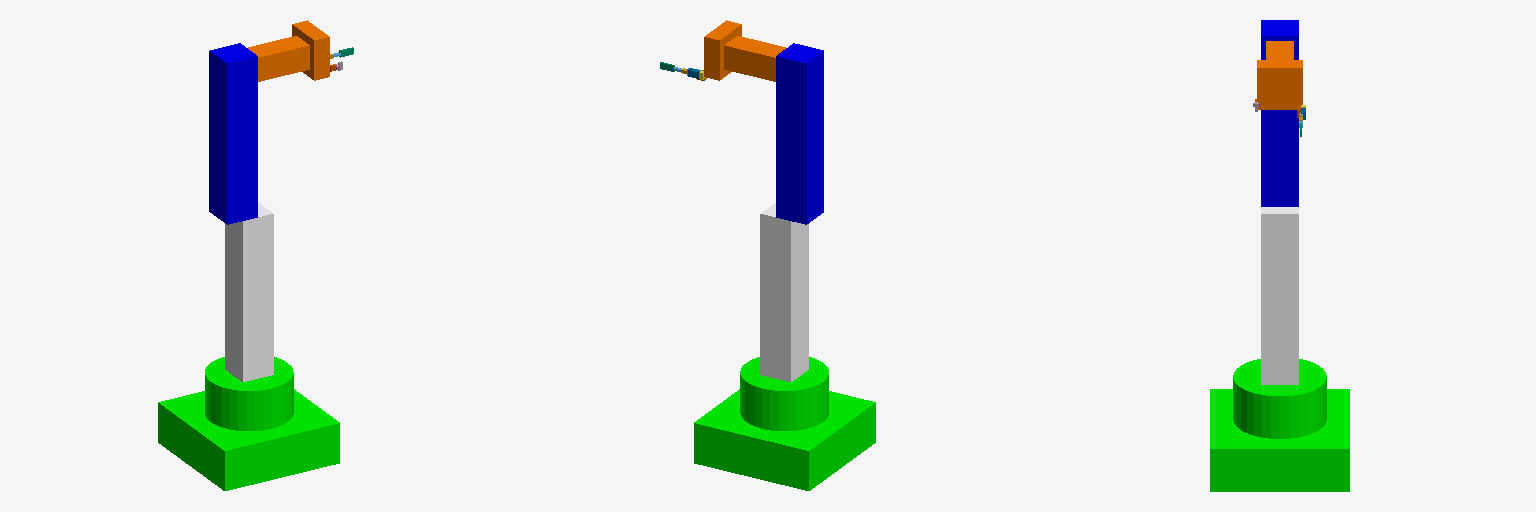
robot.urdf — robot:
<?xml version='1.0' encoding='utf-8'?>
<robot name="robot">
  <link name="base_link">
    <visual>
      <origin xyz="0 0 0.125" rpy="0 0 0" />
      <geometry>
        <box size="0.75 0.75 0.25" />
      </geometry>
      <material name="green" />
    </visual>
    <visual>
      <origin xyz="0 0 0.375" rpy="0 0 0" />
      <geometry>
        <cylinder length="0.25" radius="0.25" />
      </geometry>
      <material name="green">
        <color rgba="0 1 0 1" />
      </material>
    </visual>
    <collision>
      <geometry>
        <box size="0.75 0.75 0.5" />
      </geometry>
    </collision>
    <inertial>
      <mass value="0.5" />
      <inertia ixx="0.034" ixy="0.0" ixz="0.0" iyy="0.034" iyz="0.0" izz="0.034" />
    </inertial>
  </link>
  <link name="support_link">
    <visual>
      <origin xyz="0 0 0.5" rpy="0 0 0" />
      <geometry>
        <box size="0.2 0.2 1" />
      </geometry>
      <material name="white">
        <color rgba="1 1 1 1" />
      </material>
    </visual>
    <collision>
      <geometry>
        <box size="0.2 0.2 1" />
      </geometry>
    </collision>
    <inertial>
      <mass value="0.1" />
      <inertia ixx="0.01" ixy="0.0" ixz="0.0" iyy="0.01" iyz="0.0" izz="0.01" />
    </inertial>
  </link>
  <joint name="support_joint" type="continuous">
    <origin xyz="0 0 0.5" rpy="0 0 0" />
    <parent link="base_link" />
    <child link="support_link" />
    <axis xyz="0 0 1" />
  </joint>
  <link name="arm_link">
    <visual>
      <origin xyz="0 0 0.5" rpy="0 0 0" />
      <geometry>
        <box size="0.2 0.2 1" />
      </geometry>
      <material name="blue">
        <color rgba="0 0 1 1" />
      </material>
    </visual>
    <collision>
      <geometry>
        <box size="0.2 0.2 1" />
      </geometry>
    </collision>
    <inertial>
      <mass value="0.1" />
      <inertia ixx="0.01" ixy="0.0" ixz="0.0" iyy="0.01" iyz="0.0" izz="0.01" />
    </inertial>
  </link>
  <joint name="arm_joint" type="revolute">
    <origin xyz="-0.1 0 1" rpy="0 0 0" />
    <parent link="support_link" />
    <child link="arm_link" />
    <axis xyz="0 1 0" />
    <limit lower="-3.14" upper="3.14" effort="1.0" velocity="1.0" />
  </joint>
  <link name="wrist_link">
    <visual>
      <origin xyz="0 0 0.25" rpy="0 0 0" />
      <geometry>
        <box size="0.15 0.15 0.5" />
      </geometry>
      <material name="orange">
        <color rgba="1 0.5 0 1" />
      </material>
    </visual>
    <collision>
      <geometry>
        <box size="0.15 0.15 0.5" />
      </geometry>
    </collision>
    <inertial>
      <mass value="0.1" />
      <inertia ixx="0.01" ixy="0.0" ixz="0.0" iyy="0.01" iyz="0.0" izz="0.01" />
    </inertial>
  </link>
  <joint name="wrist_joint" type="fixed">
    <origin xyz="0 0 0.9" rpy="0 1.571 0" />
    <parent link="arm_link" />
    <child link="wrist_link" />
  </joint>
  <link name="palm_link">
    <visual>
      <origin xyz="0 0 0.05" rpy="0 0 0" />
      <geometry>
        <box size="0.25 0.25 0.1" />
      </geometry>
      <material name="orange" />
    </visual>
    <collision>
      <geometry>
        <box size="0.25 0.25 0.1" />
      </geometry>
    </collision>
    <inertial>
      <mass value="0.1" />
      <inertia ixx="0.01" ixy="0.0" ixz="0.0" iyy="0.01" iyz="0.0" izz="0.01" />
    </inertial>
  </link>
  <joint name="palm_joint" type="fixed">
    <origin xyz="0 0 0.45" rpy="0 0 0" />
    <parent link="wrist_link" />
    <child link="palm_link" />
  </joint>
  <link name="finger_link_0_0">
    <visual>
      <origin xyz="0 0 0.0215" rpy="0 0 0" />
      <geometry>
        <box size="0.046 0.038 0.043" />
      </geometry>
    </visual>
    <collision>
      <geometry>
        <box size="0.046 0.038 0.043" />
      </geometry>
    </collision>
    <inertial>
      <mass value="0.023" />
      <inertia ixx="0.0" iyy="0.0" izz="0.0" ixy="0" ixz="0" iyz="0" />
    </inertial>
  </link>
  <joint name="finger_joint_palm_link_to_finger_link_0_0" type="revolute">
    <origin xyz="0.125 0.112 0.1" rpy="0 0 0" />
    <parent link="palm_link" />
    <child link="finger_link_0_0" />
    <axis xyz="0.0 1.0 0.0" />
    <limit lower="-3.142" upper="3.142" effort="10" velocity="10" />
  </joint>
  <link name="finger_link_0_1">
    <visual>
      <origin xyz="0 0 0.026" rpy="0 0 0" />
      <geometry>
        <box size="0.019 0.015 0.052" />
      </geometry>
    </visual>
    <collision>
      <geometry>
        <box size="0.019 0.015 0.052" />
      </geometry>
    </collision>
    <inertial>
      <mass value="0.004" />
      <inertia ixx="0.0" iyy="0.0" izz="0.0" ixy="0" ixz="0" iyz="0" />
    </inertial>
  </link>
  <joint name="finger_joint_finger_link_0_0_to_finger_link_0_1" type="revolute">
    <origin xyz="0.0 0.0 0.043" rpy="0 0 0" />
    <parent link="finger_link_0_0" />
    <child link="finger_link_0_1" />
    <axis xyz="0.0 1.0 0.0" />
    <limit lower="-3.142" upper="3.142" effort="10" velocity="10" />
  </joint>
  <link name="finger_link_0_2">
    <visual>
      <origin xyz="0 0 0.0085" rpy="0 0 0" />
      <geometry>
        <box size="0.045 0.022 0.017" />
      </geometry>
    </visual>
    <collision>
      <geometry>
        <box size="0.045 0.022 0.017" />
      </geometry>
    </collision>
    <inertial>
      <mass value="0.005" />
      <inertia ixx="0.0" iyy="0.0" izz="0.0" ixy="0" ixz="0" iyz="0" />
    </inertial>
  </link>
  <joint name="finger_joint_finger_link_0_1_to_finger_link_0_2" type="revolute">
    <origin xyz="0.0 0.0 0.052" rpy="0 0 0" />
    <parent link="finger_link_0_1" />
    <child link="finger_link_0_2" />
    <axis xyz="0.0 1.0 0.0" />
    <limit lower="-3.142" upper="3.142" effort="10" velocity="10" />
  </joint>
  <link name="finger_link_0_3">
    <visual>
      <origin xyz="0 0 0.018" rpy="0 0 0" />
      <geometry>
        <box size="0.021 0.025 0.036" />
      </geometry>
    </visual>
    <collision>
      <geometry>
        <box size="0.021 0.025 0.036" />
      </geometry>
    </collision>
    <inertial>
      <mass value="0.006" />
      <inertia ixx="0.0" iyy="0.0" izz="0.0" ixy="0" ixz="0" iyz="0" />
    </inertial>
  </link>
  <joint name="finger_joint_finger_link_0_2_to_finger_link_0_3" type="revolute">
    <origin xyz="0.0 0.0 0.017" rpy="0 0 0" />
    <parent link="finger_link_0_2" />
    <child link="finger_link_0_3" />
    <axis xyz="1.0 0.0 0.0" />
    <limit lower="-3.142" upper="3.142" effort="10" velocity="10" />
  </joint>
  <link name="finger_link_0_4">
    <visual>
      <origin xyz="0 0 0.0275" rpy="0 0 0" />
      <geometry>
        <box size="0.013 0.024 0.055" />
      </geometry>
    </visual>
    <collision>
      <geometry>
        <box size="0.013 0.024 0.055" />
      </geometry>
    </collision>
    <inertial>
      <mass value="0.005" />
      <inertia ixx="0.0" iyy="0.0" izz="0.0" ixy="0" ixz="0" iyz="0" />
    </inertial>
  </link>
  <joint name="finger_joint_finger_link_0_3_to_finger_link_0_4" type="revolute">
    <origin xyz="0.0 0.0 0.036" rpy="0 0 0" />
    <parent link="finger_link_0_3" />
    <child link="finger_link_0_4" />
    <axis xyz="0.0 1.0 0.0" />
    <limit lower="-3.142" upper="3.142" effort="10" velocity="10" />
  </joint>
  <link name="finger_link_0_5">
    <visual>
      <origin xyz="0 0 0.044" rpy="0 0 0" />
      <geometry>
        <box size="0.04 0.011 0.088" />
      </geometry>
    </visual>
    <collision>
      <geometry>
        <box size="0.04 0.011 0.088" />
      </geometry>
    </collision>
    <inertial>
      <mass value="0.012" />
      <inertia ixx="0.0" iyy="0.0" izz="0.0" ixy="0" ixz="0" iyz="0" />
    </inertial>
  </link>
  <joint name="finger_joint_finger_link_0_4_to_finger_link_0_5" type="revolute">
    <origin xyz="0.0 0.0 0.055" rpy="0 0 0" />
    <parent link="finger_link_0_4" />
    <child link="finger_link_0_5" />
    <axis xyz="1.0 0.0 0.0" />
    <limit lower="-3.142" upper="3.142" effort="10" velocity="10" />
  </joint>
  <link name="finger_link_1_0">
    <visual>
      <origin xyz="0 0 0.0135" rpy="0 0 0" />
      <geometry>
        <box size="0.043 0.03 0.027" />
      </geometry>
    </visual>
    <collision>
      <geometry>
        <box size="0.043 0.03 0.027" />
      </geometry>
    </collision>
    <inertial>
      <mass value="0.01" />
      <inertia ixx="0.0" iyy="0.0" izz="0.0" ixy="0" ixz="0" iyz="0" />
    </inertial>
  </link>
  <joint name="finger_joint_palm_link_to_finger_link_1_0" type="revolute">
    <origin xyz="0.117 0.125 0.1" rpy="0 0 0" />
    <parent link="palm_link" />
    <child link="finger_link_1_0" />
    <axis xyz="-1.0 0.0 0.0" />
    <limit lower="-3.142" upper="3.142" effort="10" velocity="10" />
  </joint>
  <link name="finger_link_1_1">
    <visual>
      <origin xyz="0 0 0.036" rpy="0 0 0" />
      <geometry>
        <box size="0.042 0.03 0.072" />
      </geometry>
    </visual>
    <collision>
      <geometry>
        <box size="0.042 0.03 0.072" />
      </geometry>
    </collision>
    <inertial>
      <mass value="0.027" />
      <inertia ixx="0.0" iyy="0.0" izz="0.0" ixy="0" ixz="0" iyz="0" />
    </inertial>
  </link>
  <joint name="finger_joint_finger_link_1_0_to_finger_link_1_1" type="revolute">
    <origin xyz="0.0 0.0 0.027" rpy="0 0 0" />
    <parent link="finger_link_1_0" />
    <child link="finger_link_1_1" />
    <axis xyz="1.0 0.0 0.0" />
    <limit lower="-3.142" upper="3.142" effort="10" velocity="10" />
  </joint>
  <link name="finger_link_2_0">
    <visual>
      <origin xyz="0 0 0.0175" rpy="0 0 0" />
      <geometry>
        <box size="0.032 0.018 0.035" />
      </geometry>
    </visual>
    <collision>
      <geometry>
        <box size="0.032 0.018 0.035" />
      </geometry>
    </collision>
    <inertial>
      <mass value="0.006" />
      <inertia ixx="0.0" iyy="0.0" izz="0.0" ixy="0" ixz="0" iyz="0" />
    </inertial>
  </link>
  <joint name="finger_joint_palm_link_to_finger_link_2_0" type="revolute">
    <origin xyz="0.073 -0.125 0.1" rpy="0 0 0" />
    <parent link="palm_link" />
    <child link="finger_link_2_0" />
    <axis xyz="1.0 0.0 0.0" />
    <limit lower="-3.142" upper="3.142" effort="10" velocity="10" />
  </joint>
  <link name="finger_link_2_1">
    <visual>
      <origin xyz="0 0 0.01" rpy="0 0 0" />
      <geometry>
        <box size="0.018 0.033 0.02" />
      </geometry>
    </visual>
    <collision>
      <geometry>
        <box size="0.018 0.033 0.02" />
      </geometry>
    </collision>
    <inertial>
      <mass value="0.004" />
      <inertia ixx="0.0" iyy="0.0" izz="0.0" ixy="0" ixz="0" iyz="0" />
    </inertial>
  </link>
  <joint name="finger_joint_finger_link_2_0_to_finger_link_2_1" type="revolute">
    <origin xyz="0.0 0.0 0.035" rpy="0 0 0" />
    <parent link="finger_link_2_0" />
    <child link="finger_link_2_1" />
    <axis xyz="0.0 1.0 0.0" />
    <limit lower="-3.142" upper="3.142" effort="10" velocity="10" />
  </joint>
  <link name="finger_link_2_2">
    <visual>
      <origin xyz="0 0 0.0135" rpy="0 0 0" />
      <geometry>
        <box size="0.048 0.014 0.027" />
      </geometry>
    </visual>
    <collision>
      <geometry>
        <box size="0.048 0.014 0.027" />
      </geometry>
    </collision>
    <inertial>
      <mass value="0.005" />
      <inertia ixx="0.0" iyy="0.0" izz="0.0" ixy="0" ixz="0" iyz="0" />
    </inertial>
  </link>
  <joint name="finger_joint_finger_link_2_1_to_finger_link_2_2" type="revolute">
    <origin xyz="0.0 0.0 0.02" rpy="0 0 0" />
    <parent link="finger_link_2_1" />
    <child link="finger_link_2_2" />
    <axis xyz="1.0 0.0 0.0" />
    <limit lower="-3.142" upper="3.142" effort="10" velocity="10" />
  </joint>
</robot>

--- What the picture shows (computed from the rendered views, not written in the file) ---
3 views of the same robot in one strip: view 1: azimuth 30°, elevation 25°; view 2: azimuth 150°, elevation 25°; view 3: azimuth 270°, elevation 25° (orthographic).
Robot: robot — 16 links, 15 joints (12 revolute, 1 continuous, 2 fixed); root link base_link; default pose: every joint at zero.
Visible links, largest first — view 1: base_link, arm_link, support_link, wrist_link, palm_link; view 2: base_link, arm_link, support_link, wrist_link, palm_link; view 3: base_link, support_link, arm_link, palm_link, wrist_link.
Boxes of the visible links, left/top/right/bottom form: base_link: left=158, top=357, right=339, bottom=490; arm_link: left=209, top=43, right=257, bottom=224; support_link: left=225, top=203, right=273, bottom=381; wrist_link: left=248, top=36, right=309, bottom=81; palm_link: left=292, top=20, right=329, bottom=80; base_link: left=694, top=357, right=875, bottom=490; arm_link: left=776, top=43, right=823, bottom=224; support_link: left=760, top=203, right=808, bottom=381; wrist_link: left=724, top=36, right=785, bottom=81; palm_link: left=704, top=20, right=741, bottom=80; base_link: left=1210, top=359, right=1349, bottom=491; support_link: left=1261, top=207, right=1298, bottom=384; arm_link: left=1261, top=20, right=1298, bottom=206; palm_link: left=1257, top=60, right=1302, bottom=109; wrist_link: left=1266, top=41, right=1293, bottom=59.
Bounding box of the posed robot: 1.12 × 0.75 × 2.52 m (x, y, z).
Geometry: primitives only (box / cylinder / sphere), no mesh files.